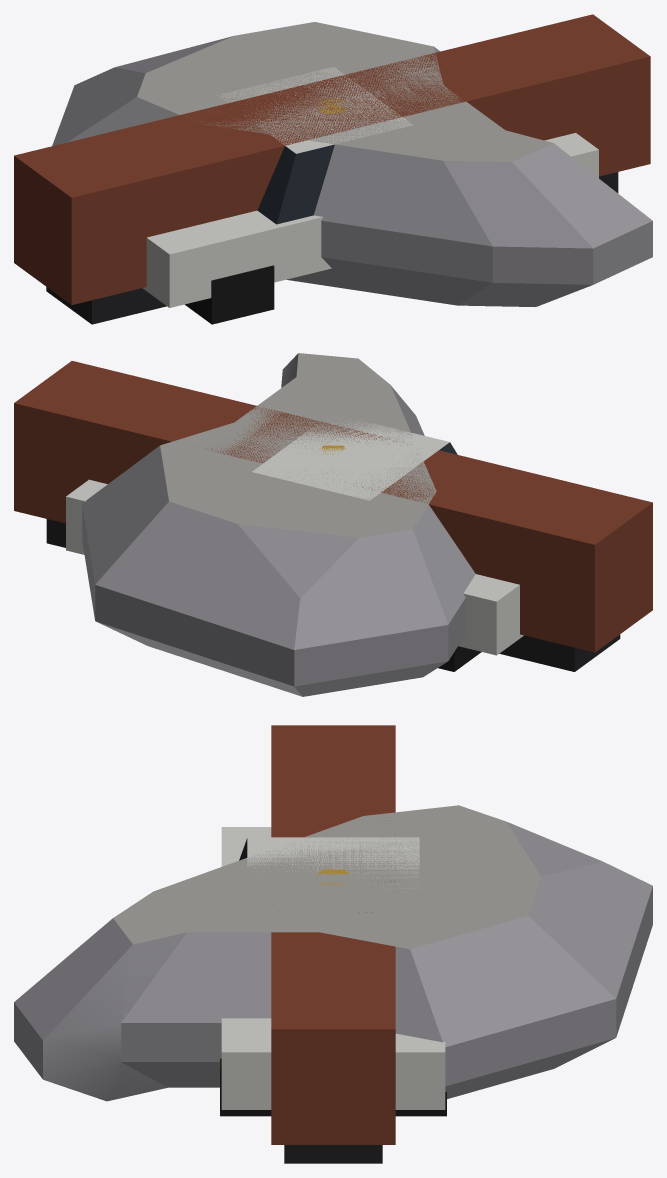
The model's file is tree-kit.glb.
3 renders of one model, top to bottom at view 1: azimuth 30°, elevation 25°; view 2: azimuth 150°, elevation 25°; view 3: azimuth 270°, elevation 25°, orthographic. The views are drawn at different scales.
Visible parts, largest first — view 1: rock, railcar-rust, car-white; view 2: rock, railcar-rust, car-white; view 3: rock, railcar-rust, car-white.
Part boxes in pixels (box(x1,y1,x2,y2)): rock: box(52, 22, 652, 306); railcar-rust: box(14, 14, 650, 324); car-white: box(142, 67, 598, 324); rock: box(82, 353, 475, 696); railcar-rust: box(14, 361, 652, 671); car-white: box(66, 414, 523, 671); rock: box(14, 805, 652, 1101); railcar-rust: box(271, 725, 395, 1163); car-white: box(220, 827, 446, 1116).
Bounding box in the file's own units: 4.4 × 1 × 3.91.
